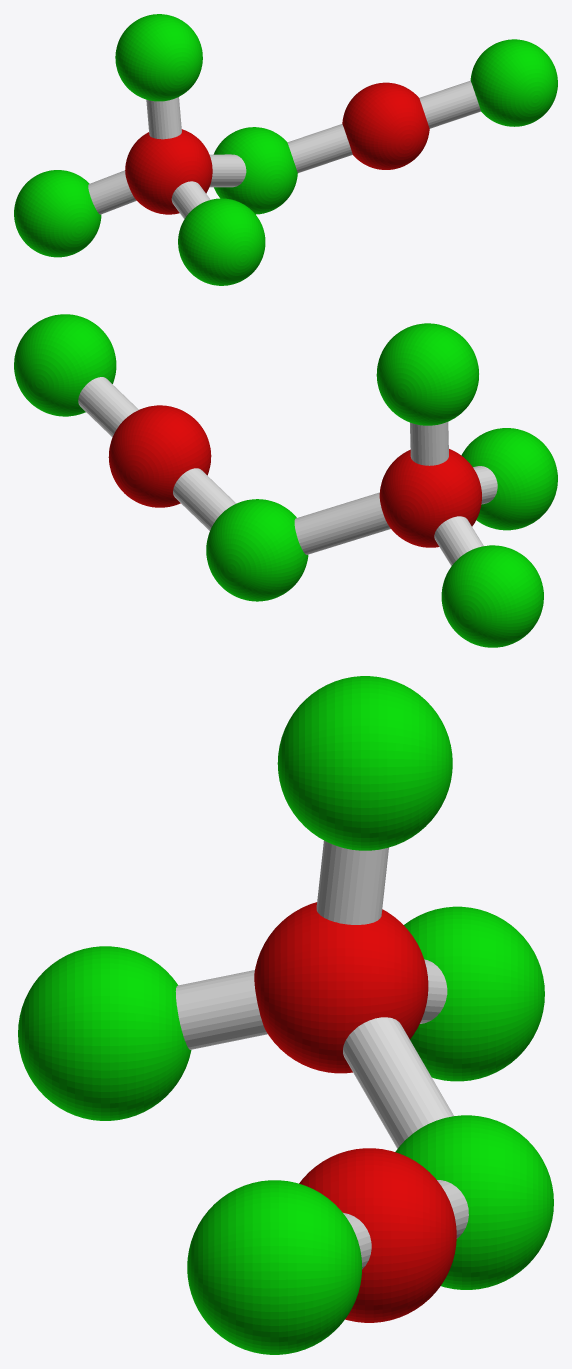
File: molecule.glb
3 renders of one model, top to bottom at view 1: azimuth 30°, elevation 25°; view 2: azimuth 150°, elevation 25°; view 3: azimuth 270°, elevation 25°, orthographic. The views are drawn at different scales.
Parts seen in each view (by area): view 1: world; view 2: world; view 3: world.
Part boxes in pixels (left/top/right/bottom): world: left=14, top=14, right=557, bottom=285; world: left=14, top=314, right=557, bottom=647; world: left=18, top=676, right=553, bottom=1354.
Bounding box in the file's own units: 5.14 × 2.42 × 2.45.
